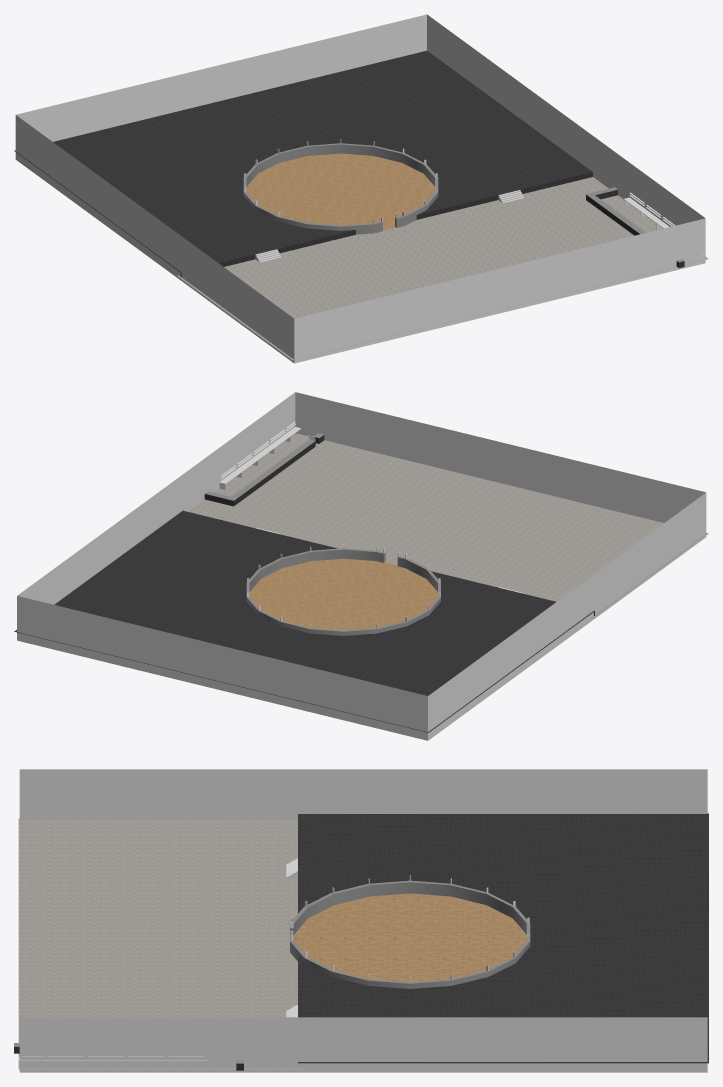
Rendered from Club.FBX.
3 renders of one model, top to bottom at view 1: azimuth 30°, elevation 25°; view 2: azimuth 150°, elevation 25°; view 3: azimuth 270°, elevation 25°, orthographic. The views are drawn at different scales.
Parts seen in each view (by area): view 1: Plane003, Plane002, Plane004, Plane001, Tube001; view 2: Plane003, Plane004, Plane002, Plane001, Tube001, Box041, Object003; view 3: Plane003, Plane002, Plane004, Plane001, Tube001.
Part boxes in pixels (x1,y1,x2,y2): Plane003: [15, 14, 705, 363]; Plane002: [14, 50, 592, 277]; Plane004: [177, 177, 708, 360]; Plane001: [246, 153, 434, 230]; Tube001: [243, 143, 438, 234]; Plane003: [17, 392, 706, 740]; Plane004: [188, 433, 708, 618]; Plane002: [14, 510, 594, 732]; Plane001: [249, 558, 437, 630]; Tube001: [246, 548, 440, 635]; Box041: [204, 435, 324, 506]; Object003: [205, 433, 324, 500]; Plane003: [19, 769, 707, 1072]; Plane002: [298, 813, 708, 1063]; Plane004: [18, 818, 304, 1069]; Plane001: [294, 893, 526, 981]; Tube001: [290, 880, 530, 988].
Bounding box in the file's own units: 121 × 12.35 × 141.
Materials: 4 (3 with a texture image).
